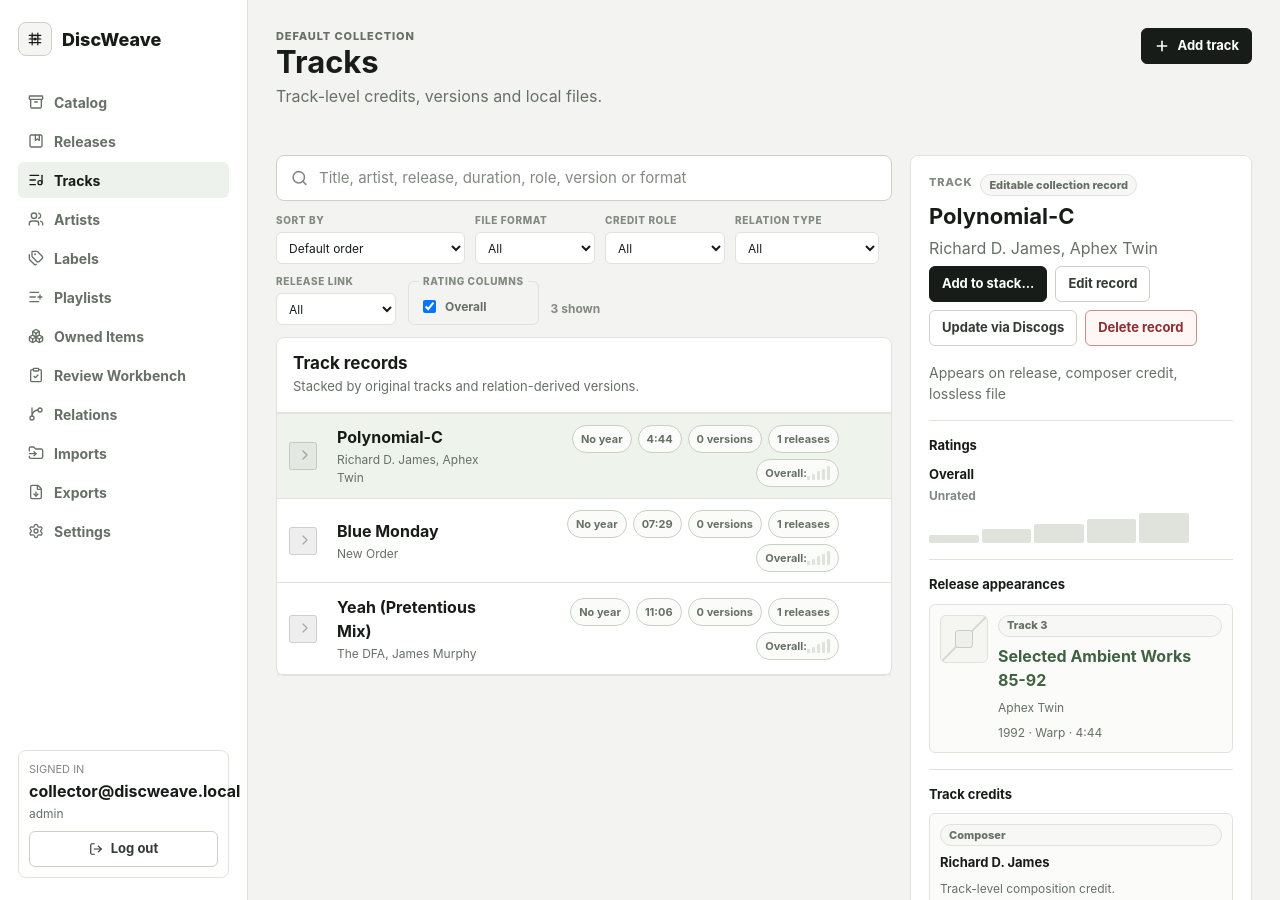
Test: App track and playlist workspaces › filters tracks by title, artist, release, duration, credits, versions, relations and file format
In the search field named "Search tracks": (584, 178) [276, 155, 892, 201], type "new order 07:29 factory version wav"
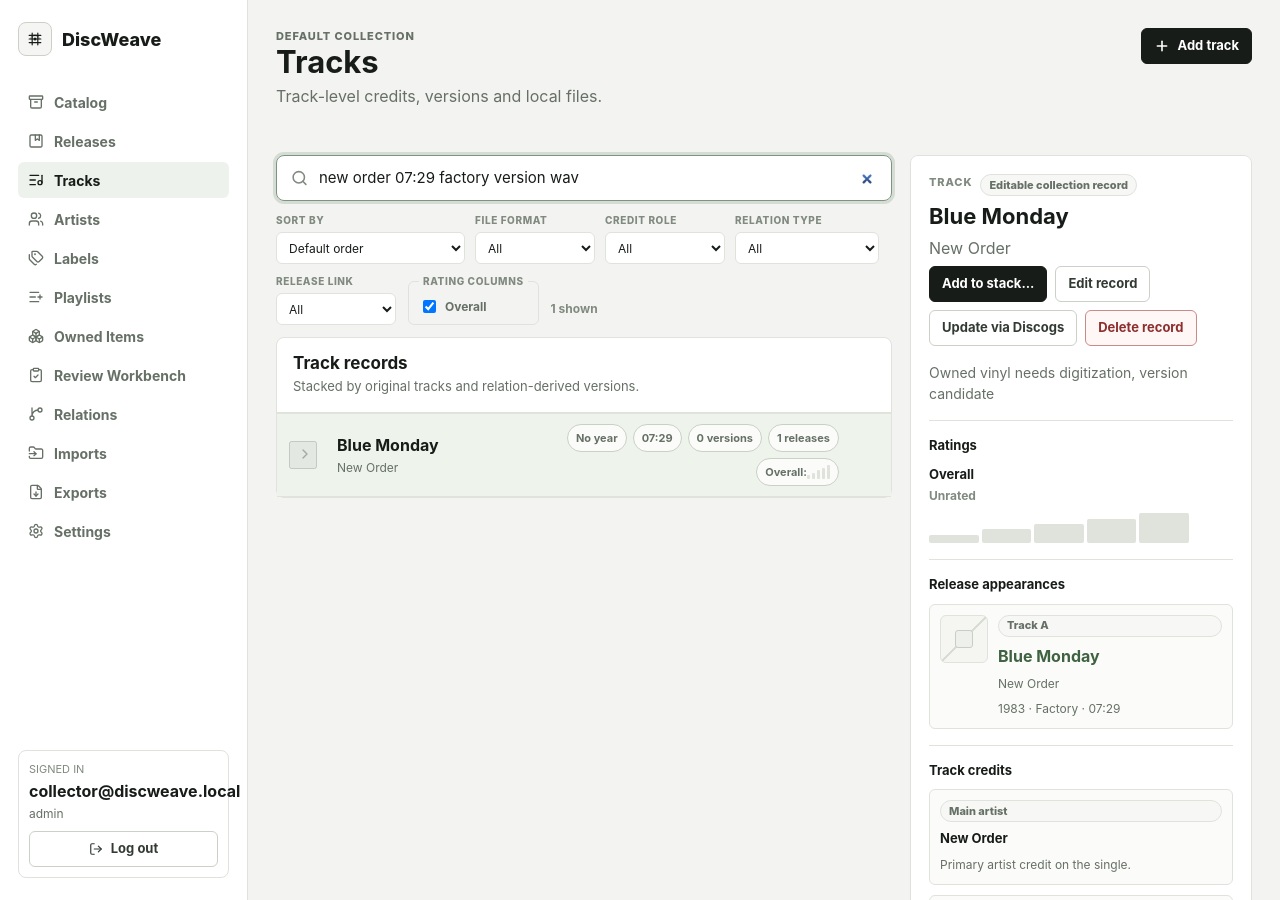
Expected: the list item "Blue Monday" is shown, [277, 414, 891, 497]
Now the button "Polynomial-C" is gone
